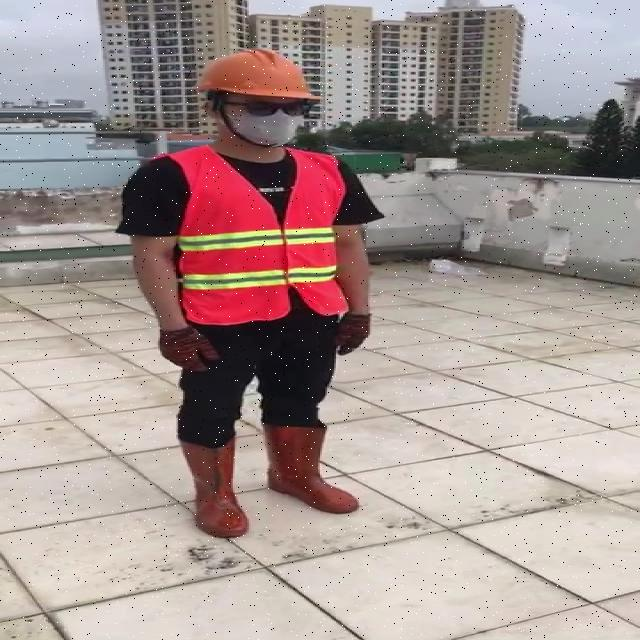Hard_hat: (193, 48, 323, 113)
Person: (110, 43, 385, 549)
Vest: (175, 142, 346, 330)
